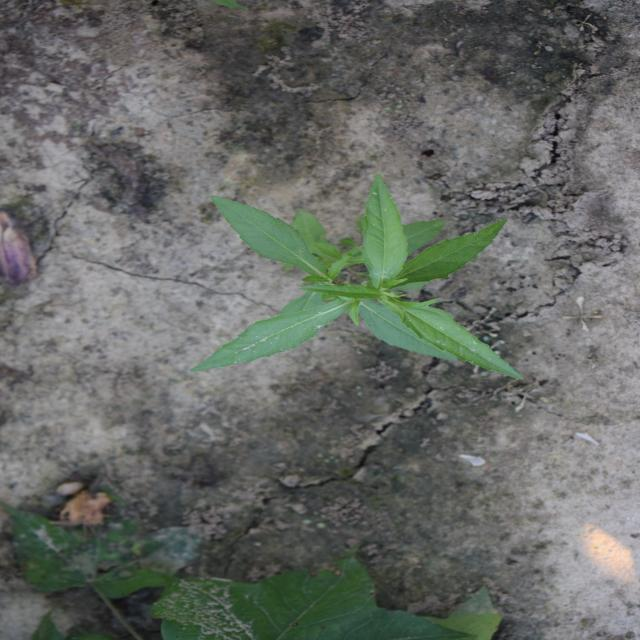Eclipta: (187, 171, 528, 383)
